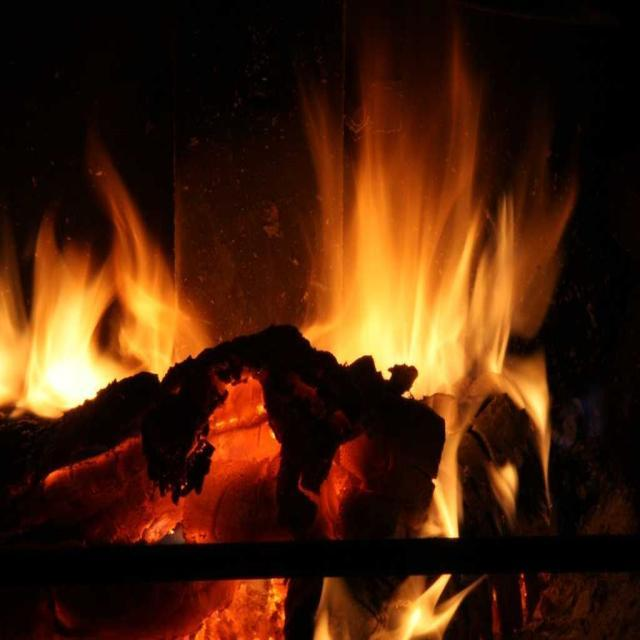Fire: (344, 239, 473, 372), (39, 288, 99, 402)
